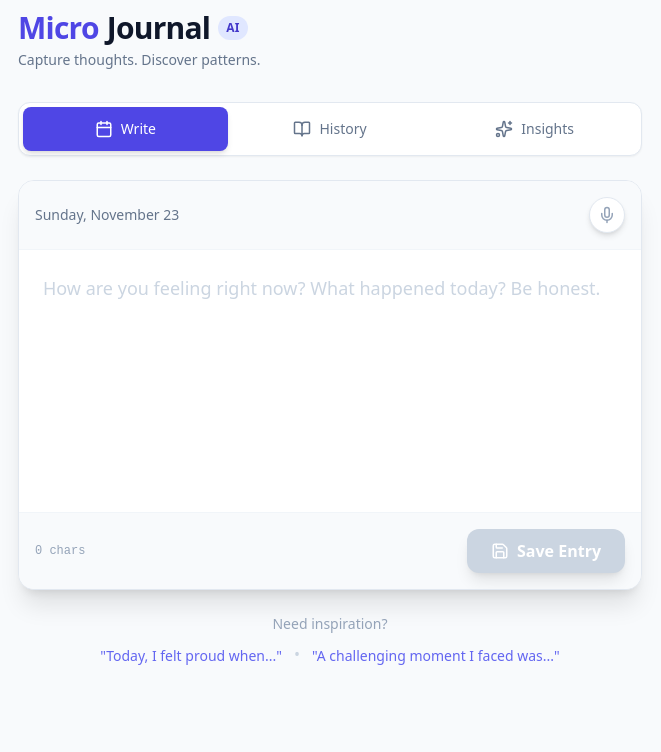
Test: App › History View › allows searching for an entry
The image size is (661, 752).
In the text box with placeholder "How are you feeling right now?": [330, 378] box top-left (19, 250), bottom-right (641, 506), type "This is the first entry about React."
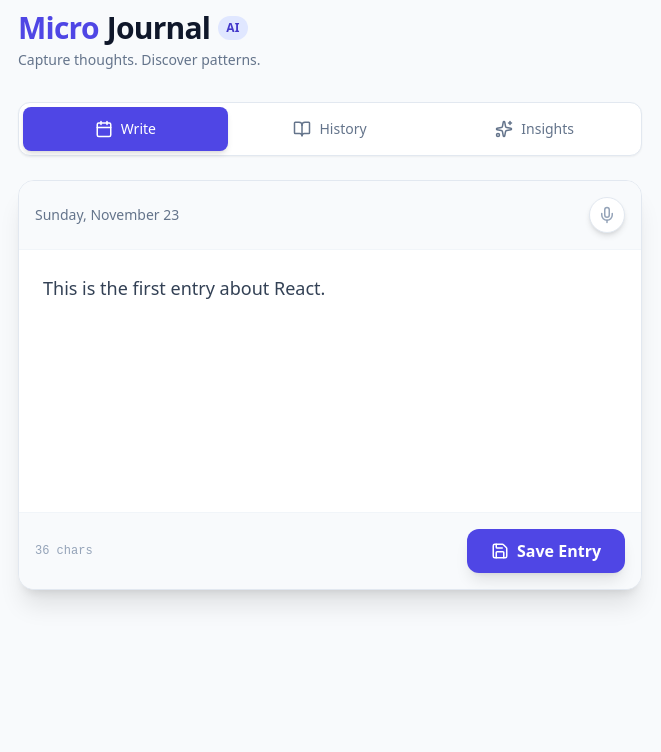
Click the button "Save Entry": [546, 551] box top-left (467, 529), bottom-right (625, 573)
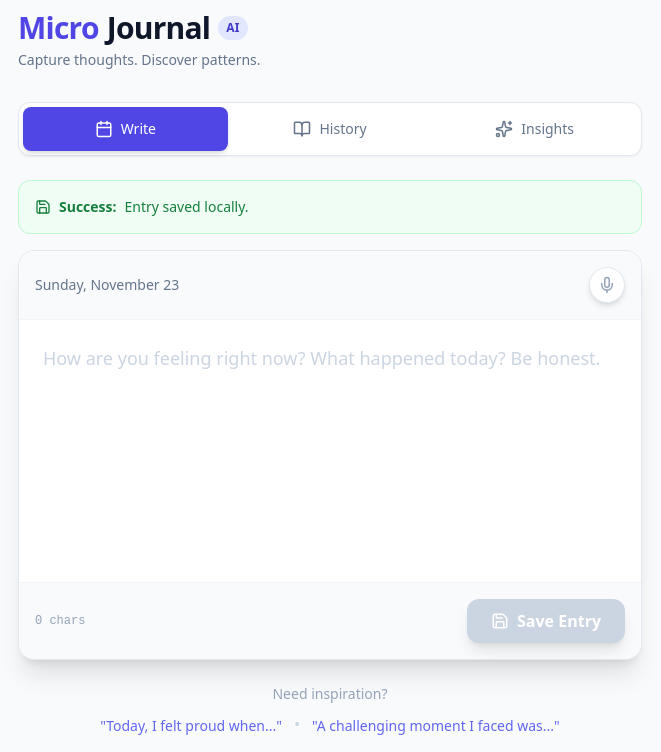
In the text box with placeholder "How are you feeling right now?": [330, 448] box top-left (19, 320), bottom-right (641, 576), type "This is the second entry about testing."
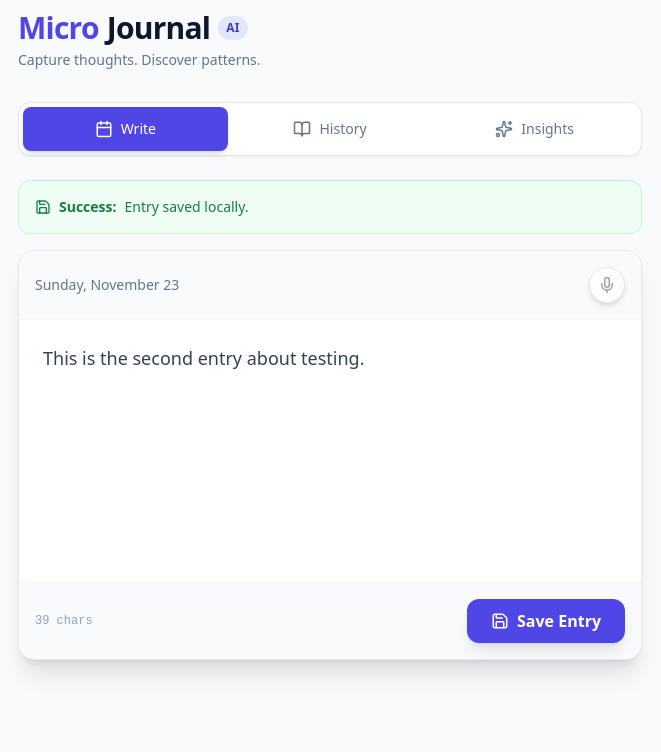
Click the button "Save Entry": [546, 621] box top-left (467, 599), bottom-right (625, 643)
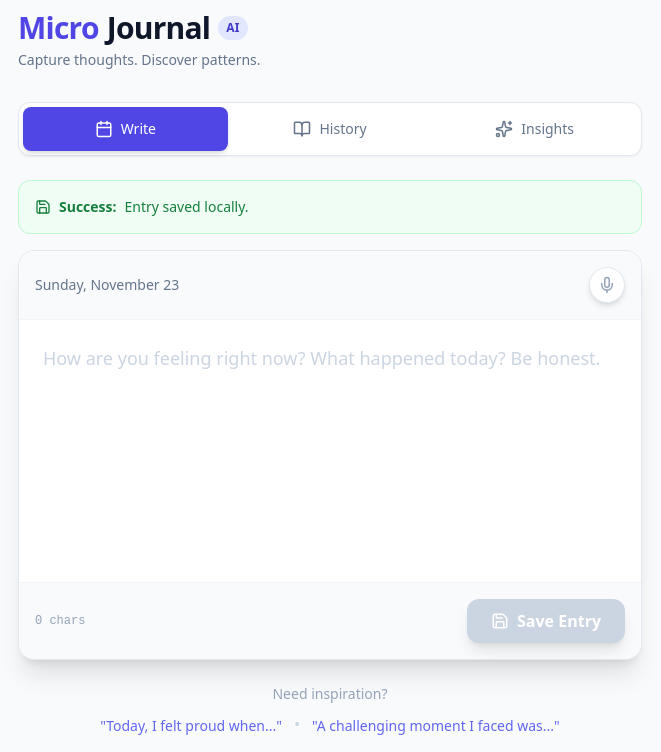
Click the button "History": [330, 129] box top-left (228, 107), bottom-right (432, 151)
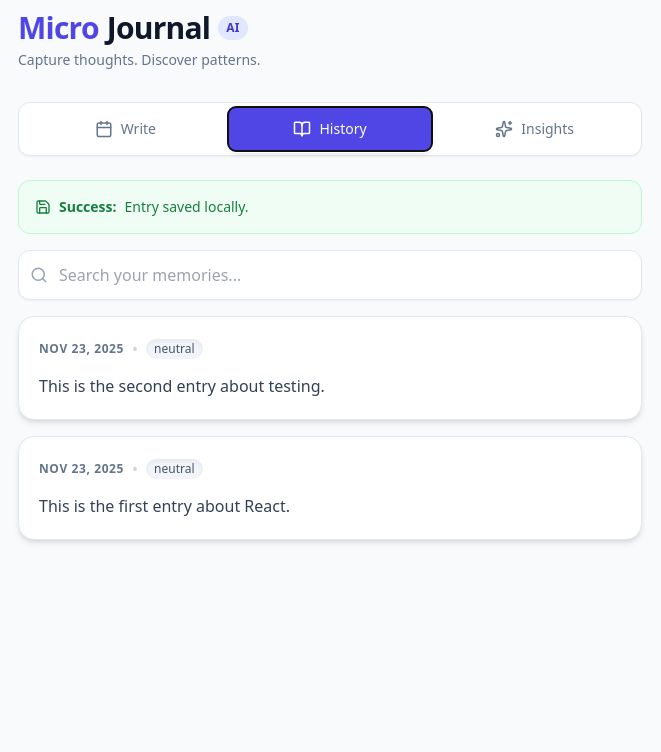
Expected: the text "This is the first entry about React." is shown, top-left (39, 495), bottom-right (290, 517)
Expected: the text "This is the second entry about testing." is shown, top-left (39, 375), bottom-right (325, 397)
In the field with placeholder "Search your memories...": [330, 275] box top-left (18, 250), bottom-right (642, 300), type "React"
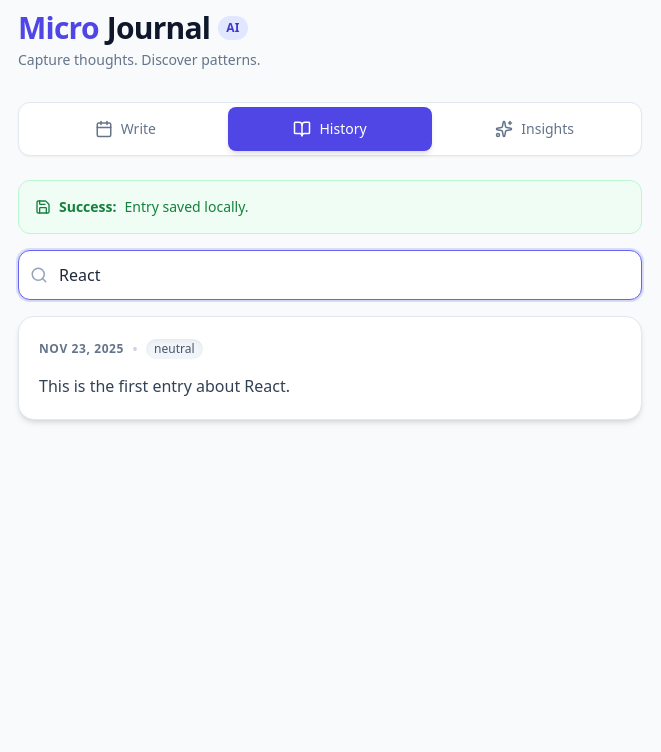
Expected: the text "This is the first entry about React." is shown, top-left (39, 375), bottom-right (290, 397)
Expected: the text "This is the second entry about testing." is gone
